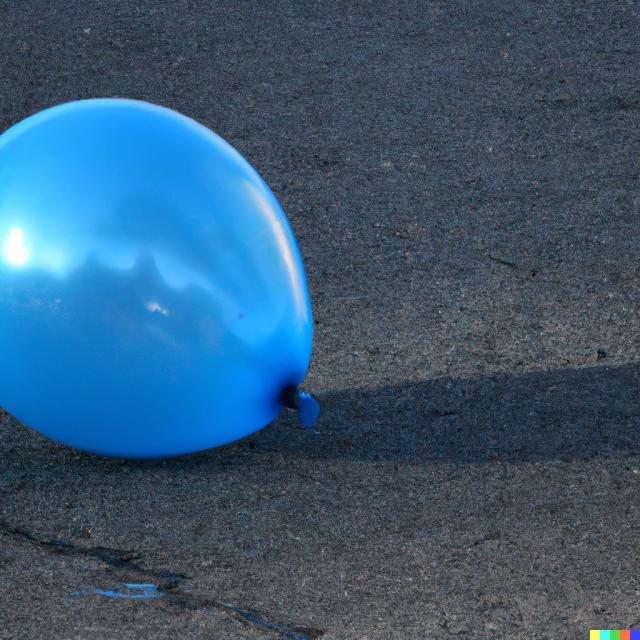blue: (1, 96, 322, 461)
